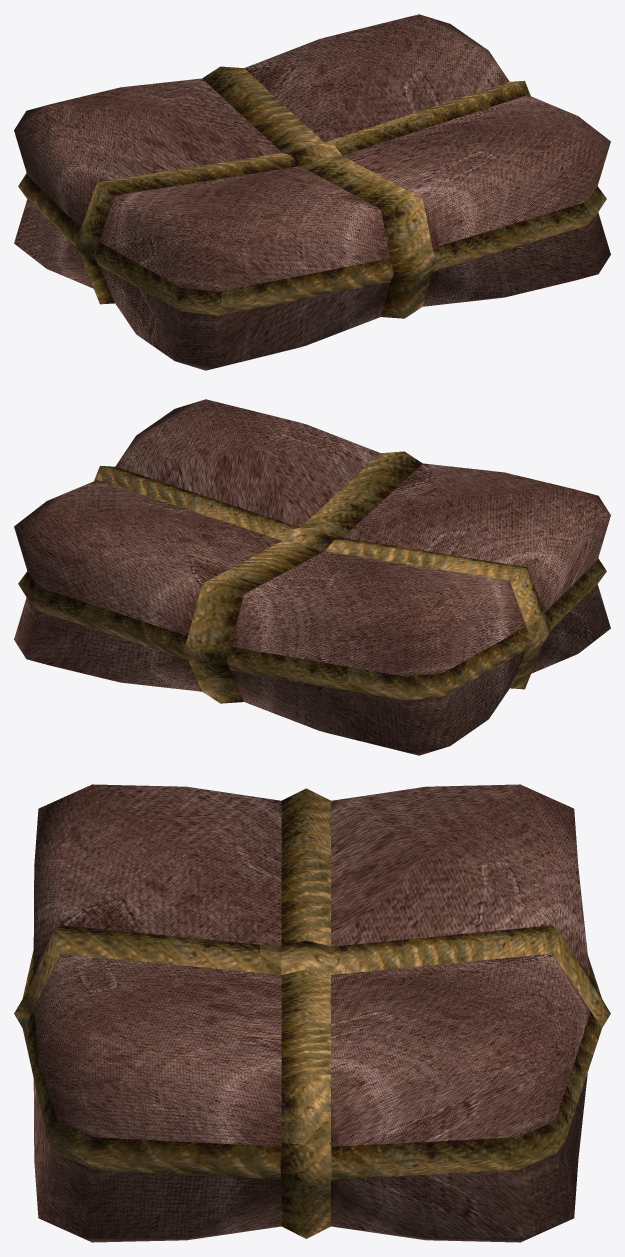
File: KM_ITMI_PACKET_04.glb
3 renders of one model, top to bottom at view 1: azimuth 30°, elevation 25°; view 2: azimuth 150°, elevation 25°; view 3: azimuth 270°, elevation 25°, orthographic. The views are drawn at different scales.
Parts seen in each view (by area): view 1: Mesh; view 2: Mesh; view 3: Mesh.
Part boxes in pixels (x1=…): Mesh: x1=14, y1=14, x2=610, y2=370; Mesh: x1=14, y1=399, x2=610, y2=755; Mesh: x1=14, y1=784, x2=610, y2=1242.
Bounding box in the file's own units: 0.4578 × 0.1414 × 0.364.
2 materials, 2 textured.
